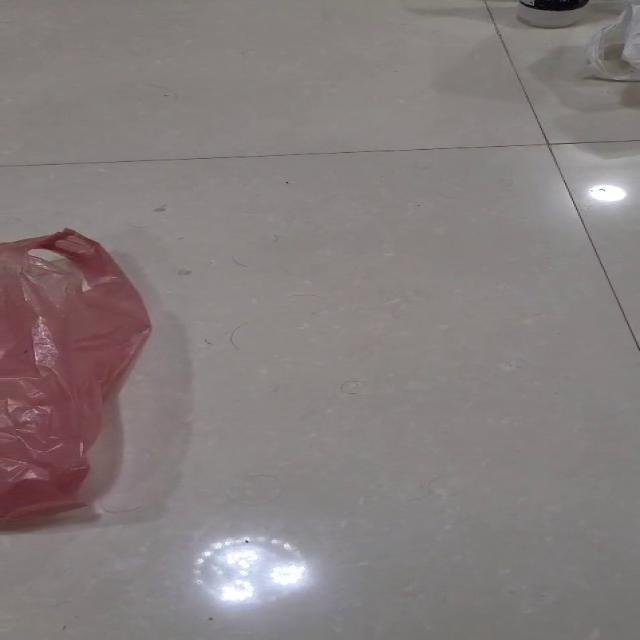plastic: (0, 226, 153, 524)
